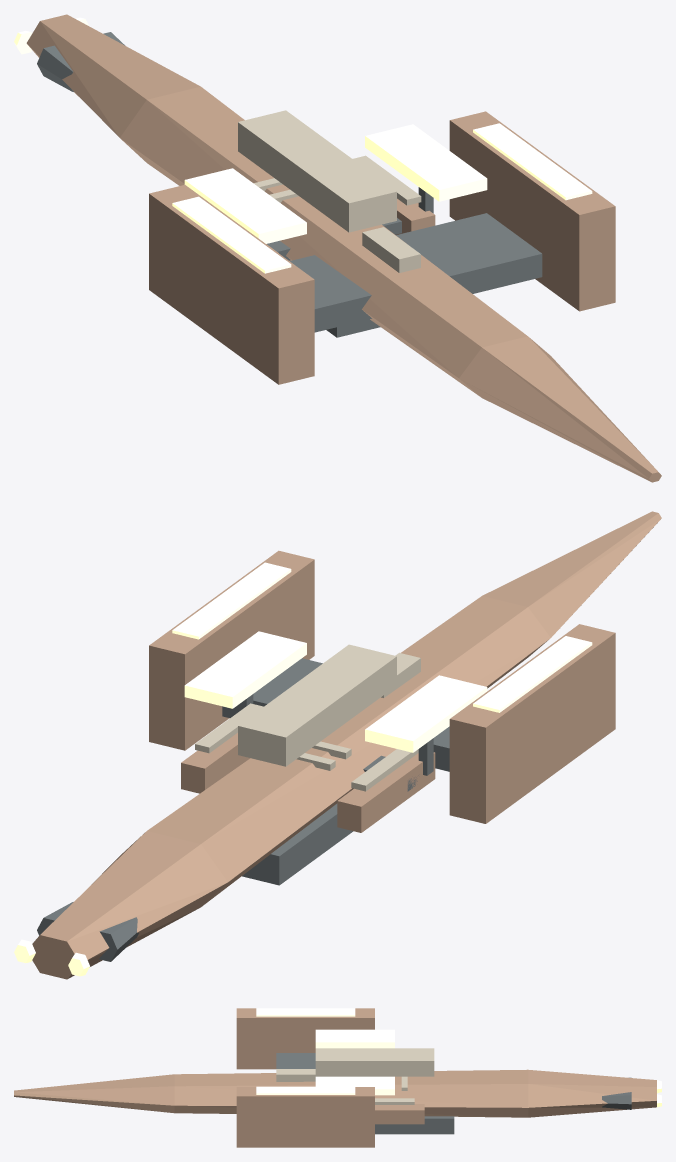
The picture shows the model from 3 angles, top to bottom: view 1: azimuth 30°, elevation 25°; view 2: azimuth 150°, elevation 25°; view 3: azimuth 270°, elevation 25°; orthographic projection. The views are drawn at different scales.
Size of the model in its own units: 4.54 by 1.79 by 14.15.
